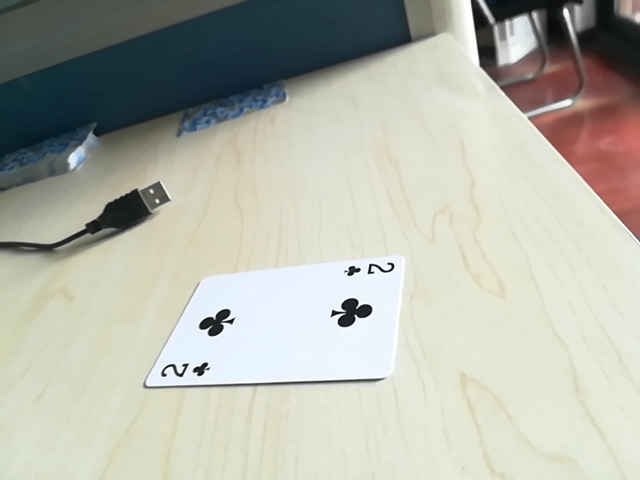mh 2: (154, 352, 220, 386), (340, 256, 399, 279)
